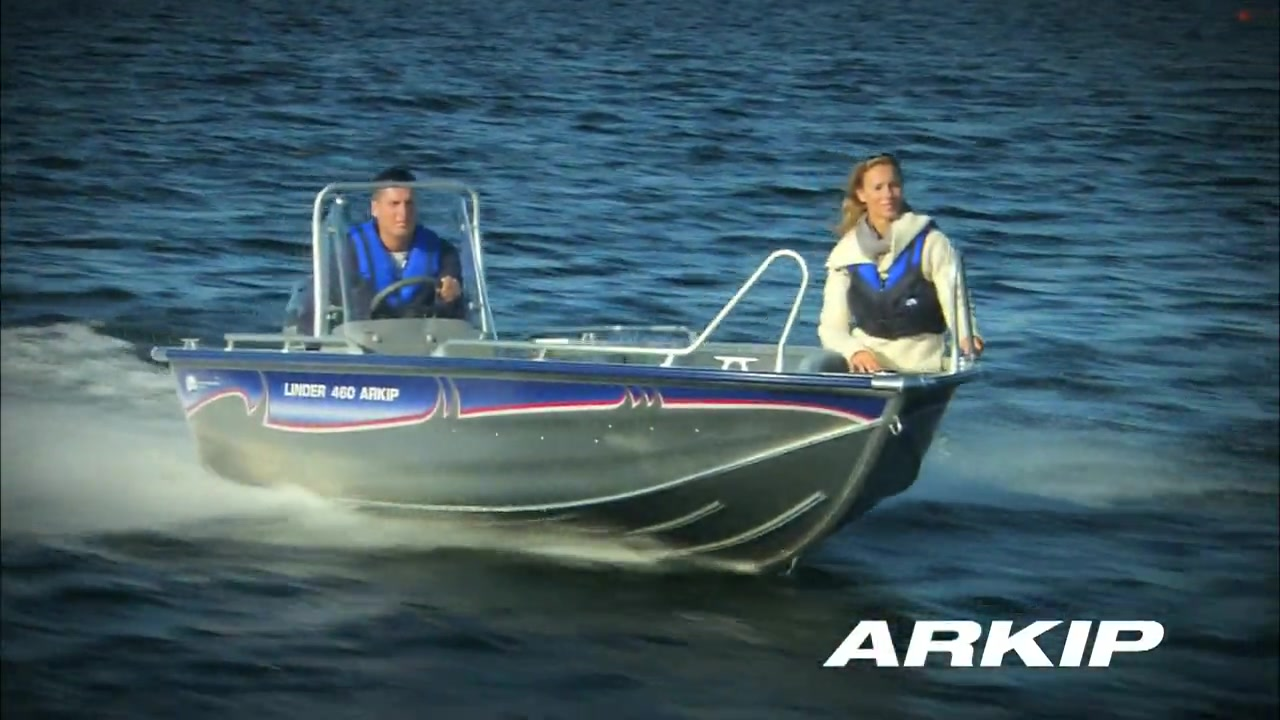boat: (152, 203, 987, 558)
